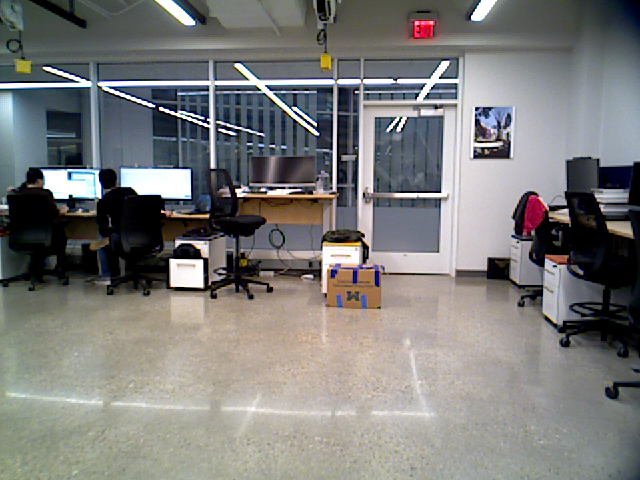painting3: (472, 107, 514, 158)
